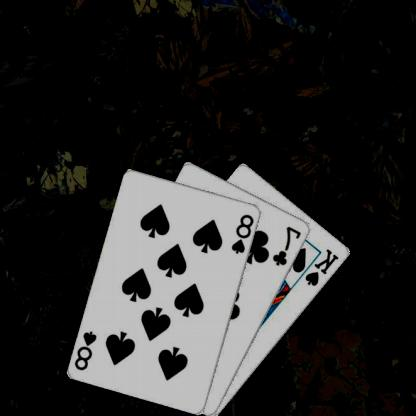7C: (272, 224, 304, 267)
8S: (231, 211, 257, 255), (74, 328, 100, 371)
KS: (304, 247, 343, 288)
